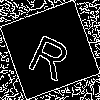R: (25, 25, 77, 82)
